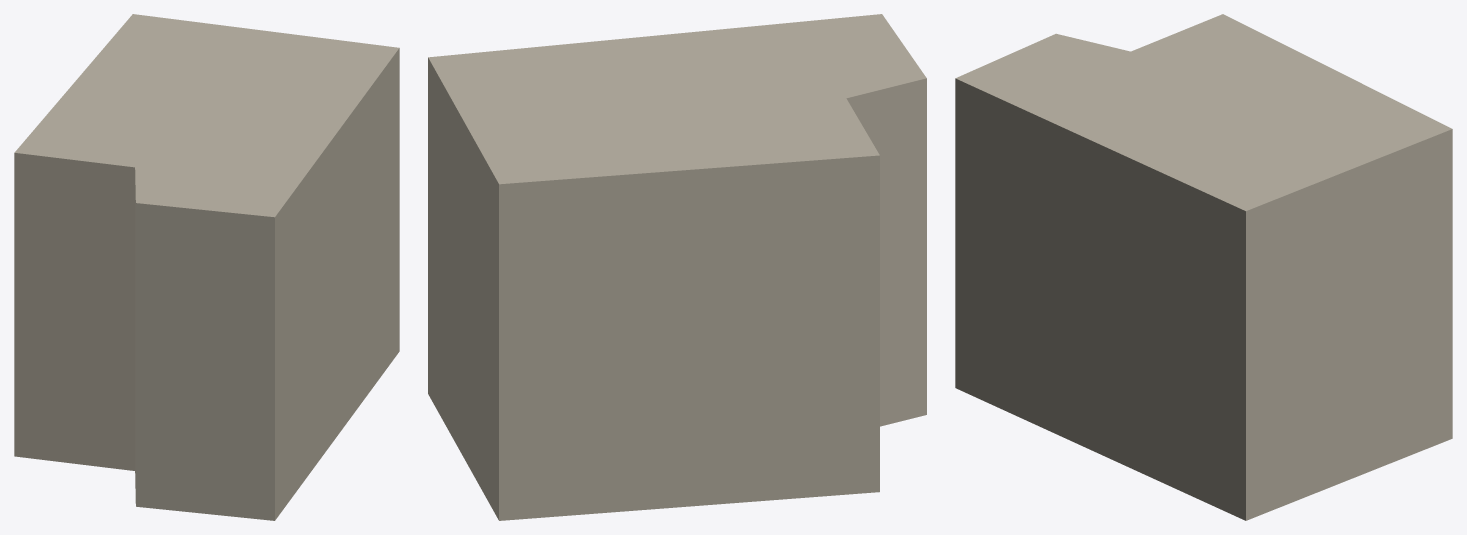
File: kalkara_66_24_collision.glb
3 renders of one model, left to right at view 1: azimuth 30°, elevation 25°; view 2: azimuth 150°, elevation 25°; view 3: azimuth 270°, elevation 25°, orthographic. The views are drawn at different scales.
Visible parts, largest first — view 1: geometry_0; view 2: geometry_0; view 3: geometry_0.
Boxes of the visible parts, left/top/right/bottom form: geometry_0: left=14, top=14, right=399, bottom=520; geometry_0: left=428, top=14, right=926, bottom=520; geometry_0: left=955, top=14, right=1452, bottom=520.
Bounding box in the file's own units: 16.08 × 11.77 × 17.13.
